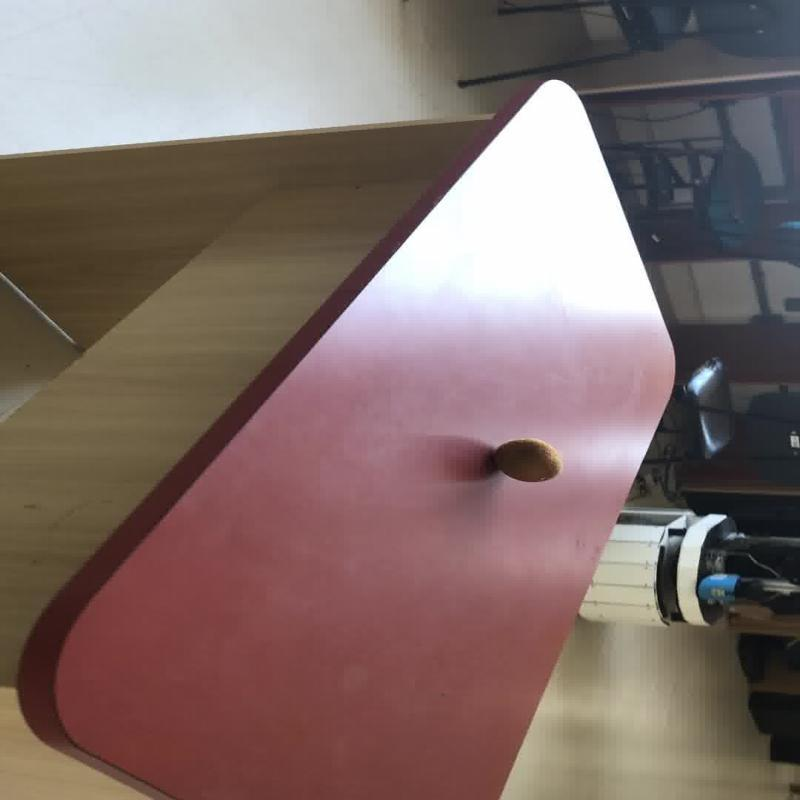kiwi: (490, 438, 560, 482)
